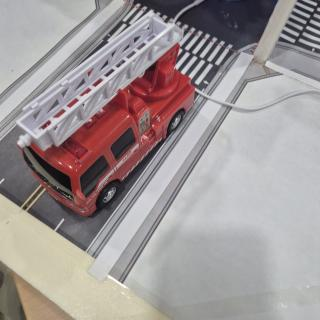Fire_truck: (17, 13, 195, 216)
